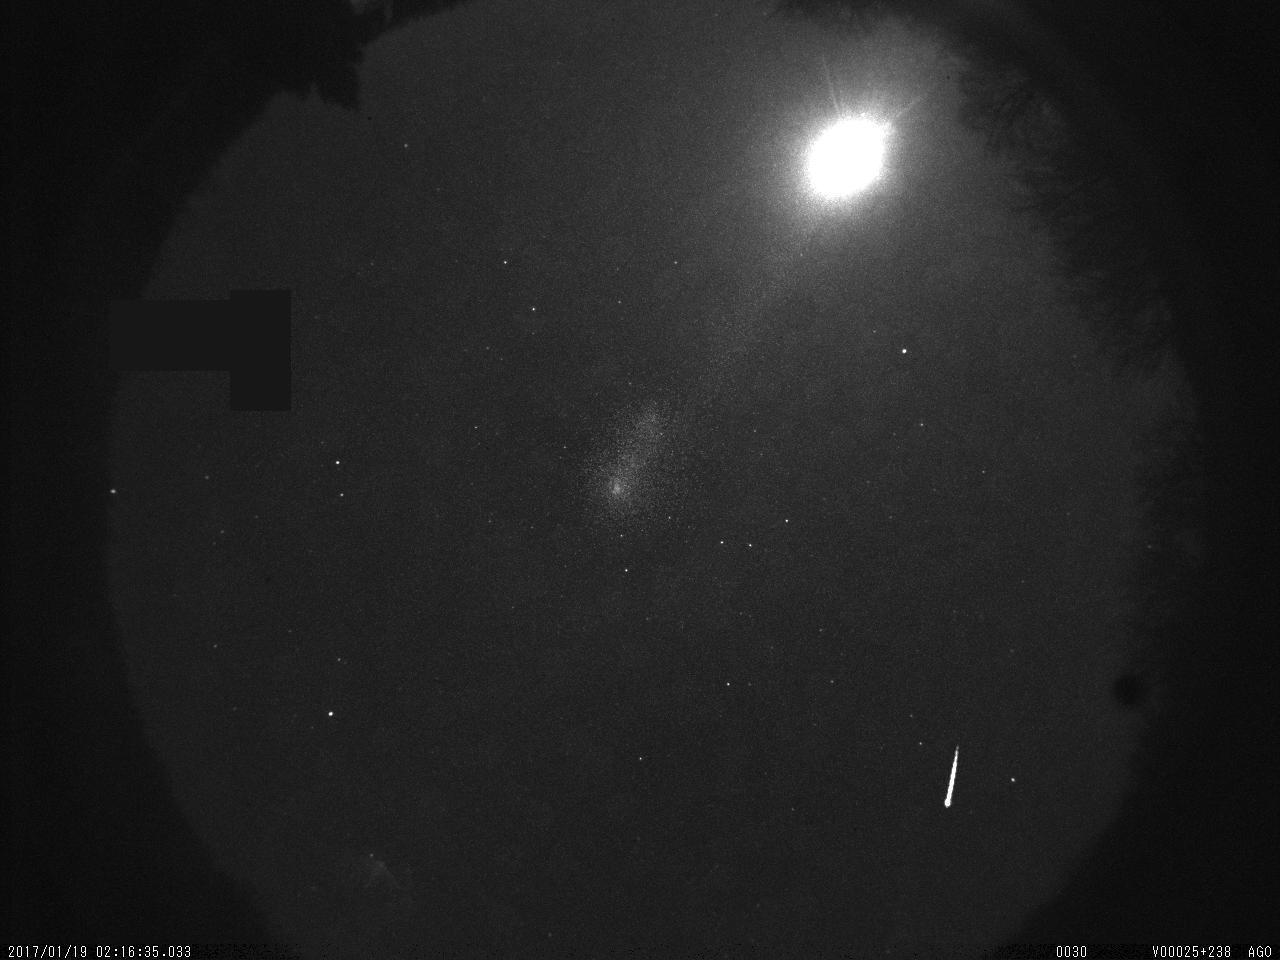meteor: (941, 720, 971, 821)
